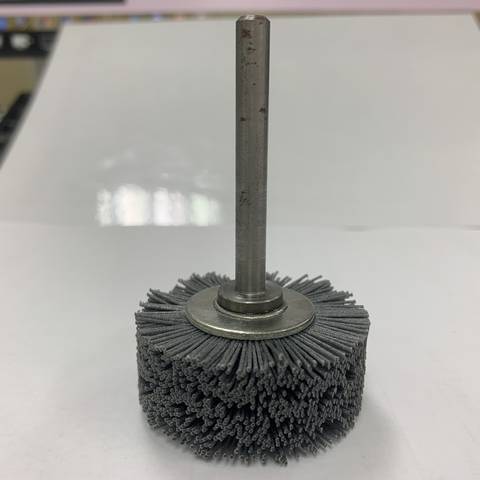Wheel Brush: (124, 5, 378, 471), (80, 28, 342, 476), (178, 10, 412, 464), (102, 249, 365, 464)
